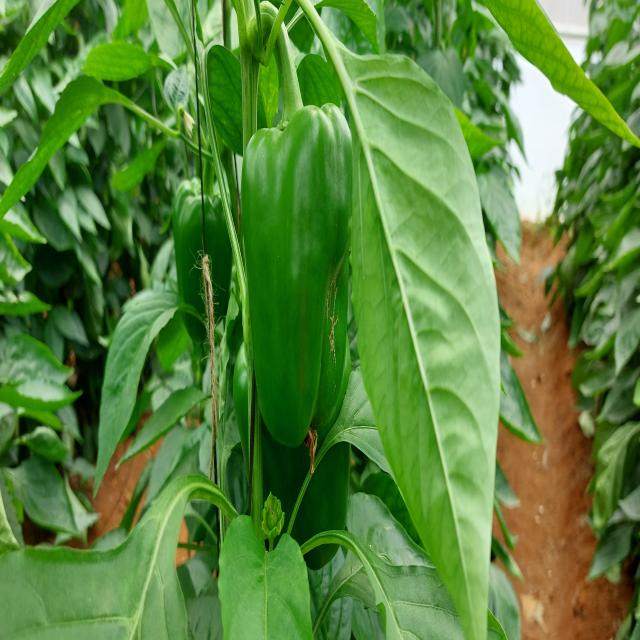Green--Not-ready-to-harvest: (245, 116, 354, 448), (231, 342, 352, 580), (175, 175, 232, 332)
